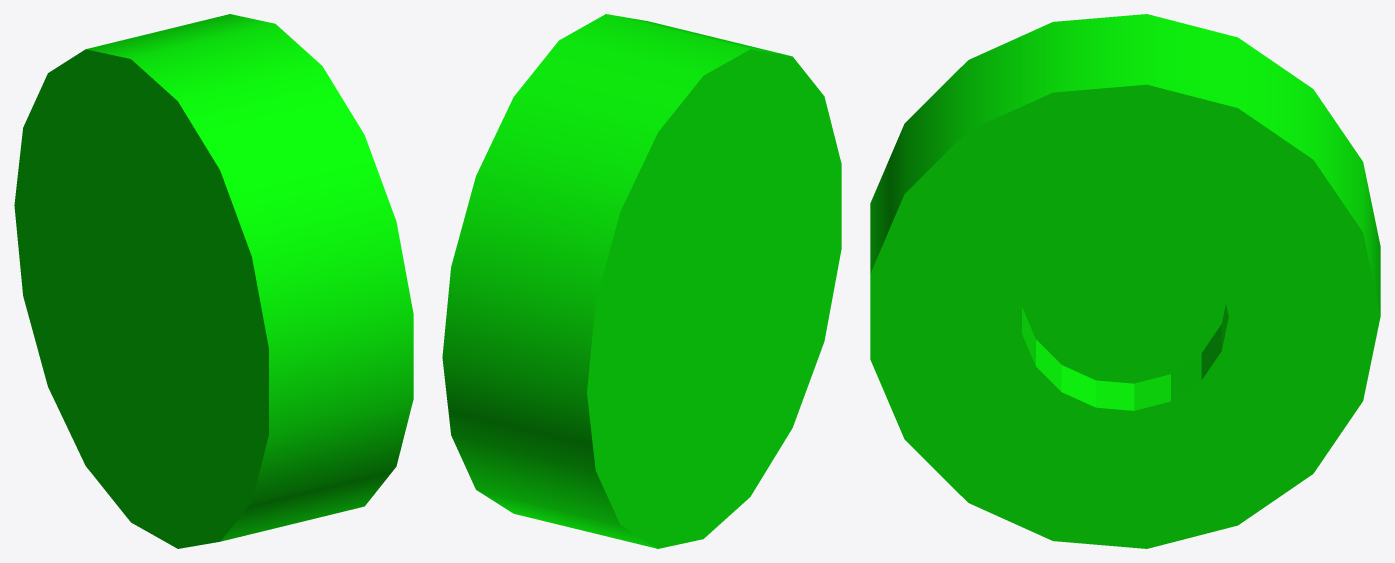
Rendered from Baked_Wheel.fbx.
3 views of the same model, side by side, from view 1: azimuth 30°, elevation 25°; view 2: azimuth 150°, elevation 25°; view 3: azimuth 270°, elevation 25° (orthographic).
Parts seen in each view (by area): view 1: B_aked_Wheel; view 2: B_aked_Wheel; view 3: B_aked_Wheel.
Boxes of the visible parts, x1=… form: B_aked_Wheel: x1=14, y1=14, x2=413, y2=548; B_aked_Wheel: x1=442, y1=14, x2=841, y2=548; B_aked_Wheel: x1=870, y1=14, x2=1380, y2=548.
Size of the model in its own units: 98.89 by 302 by 303.
